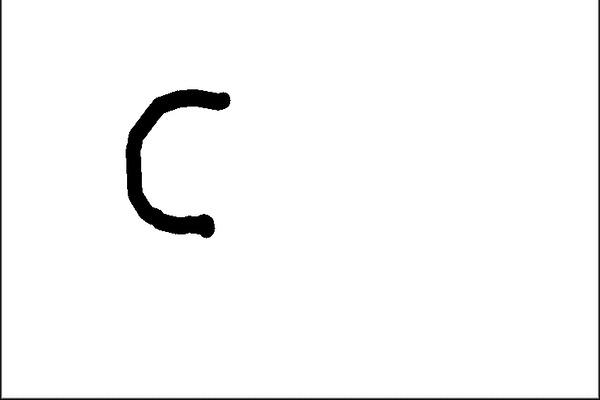C: (112, 82, 235, 242)
